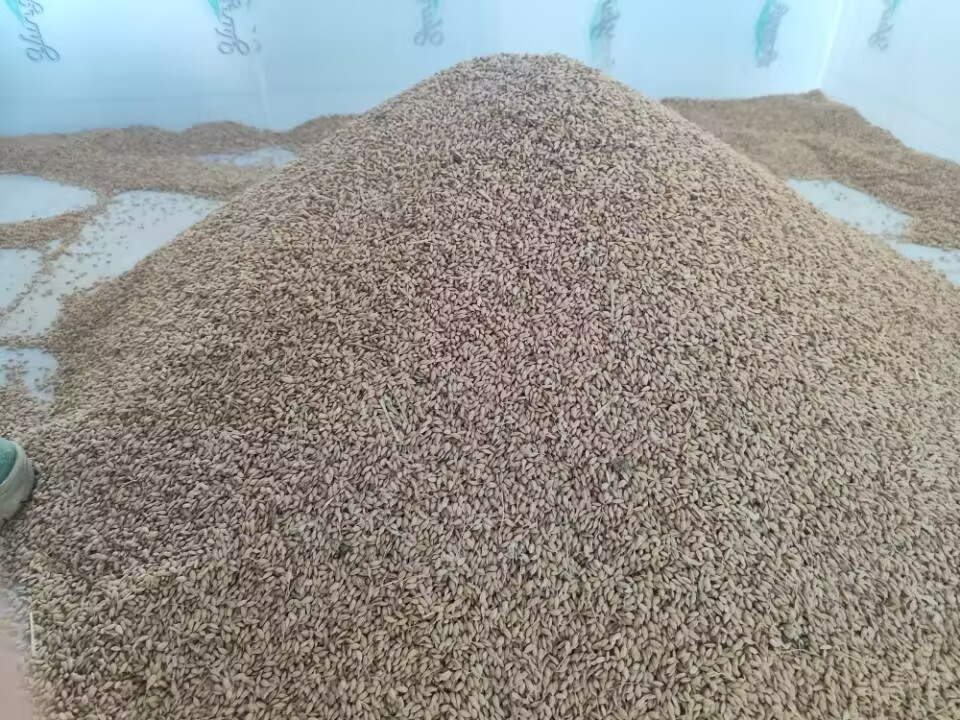Grain: (92, 25, 939, 714)
